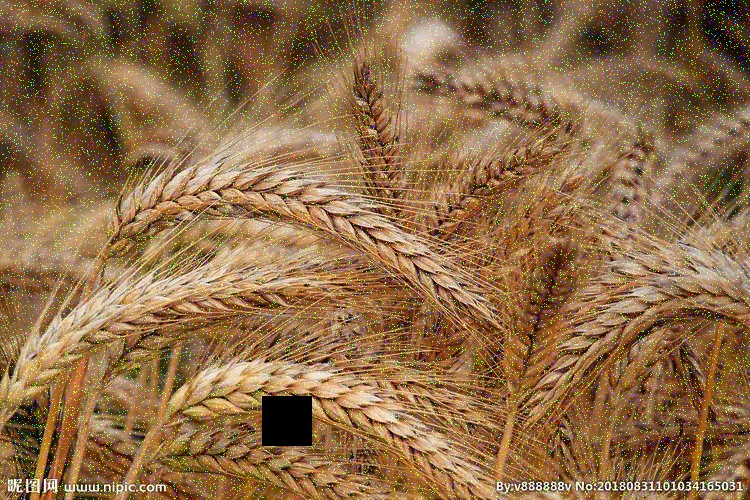wheat: (9, 254, 375, 402), (95, 170, 487, 308), (157, 360, 481, 494)
